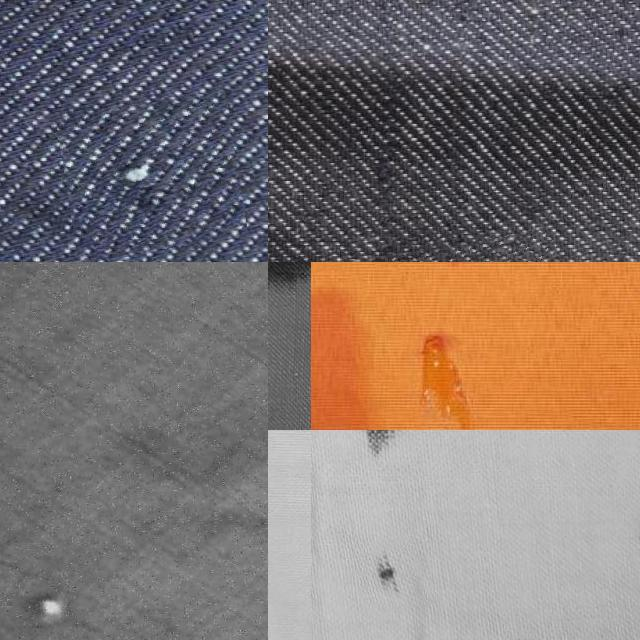Thread_other: (310, 262, 494, 430), (354, 536, 432, 613), (333, 430, 432, 481), (609, 484, 640, 607)
other: (0, 548, 102, 640)
stains: (60, 96, 242, 256)
